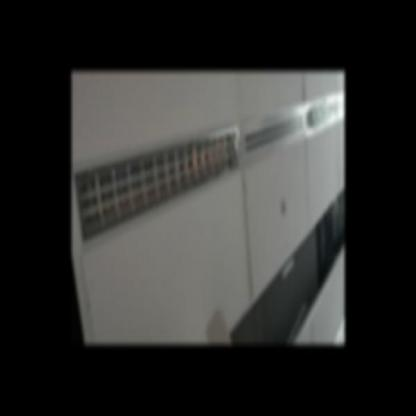light_off: (72, 120, 244, 246)
